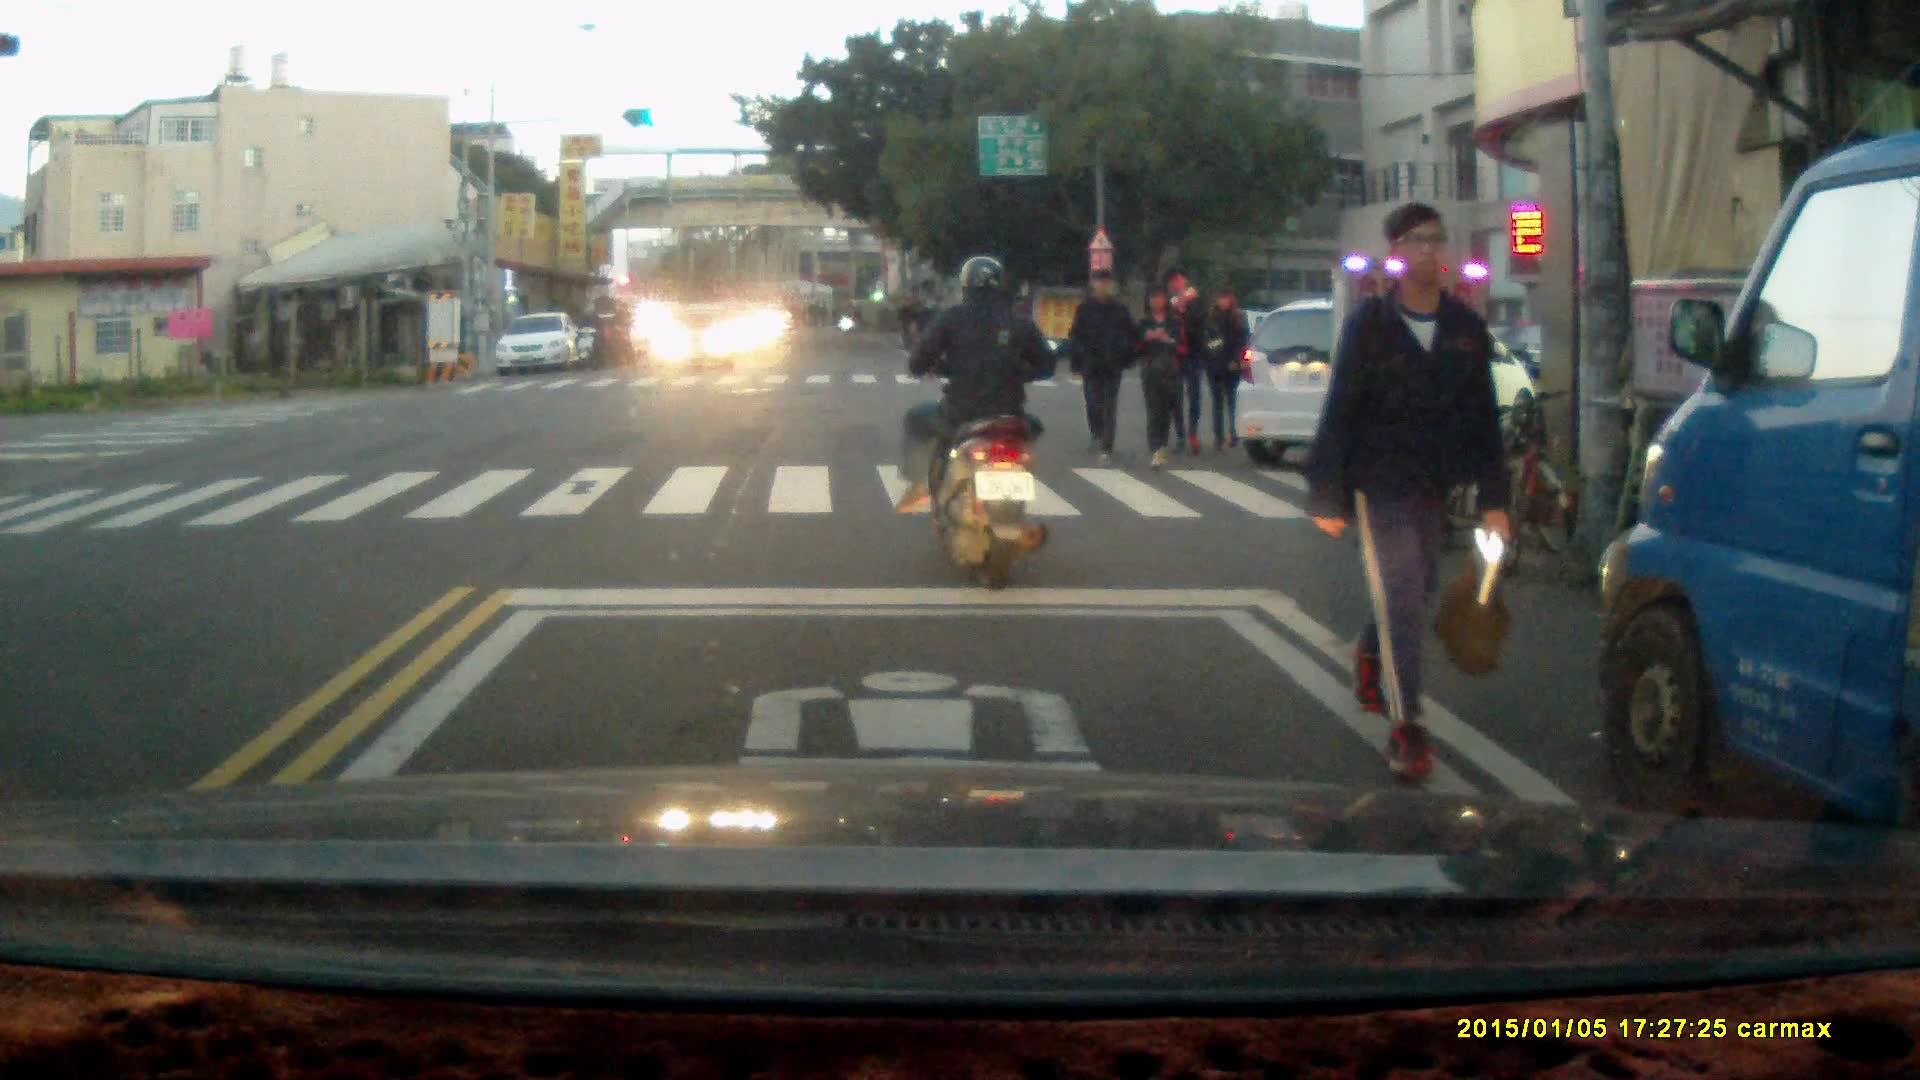pedestrian: (1305, 199, 1517, 771), (1063, 263, 1133, 465), (1132, 280, 1188, 470), (1199, 283, 1248, 452), (1164, 268, 1207, 461)
rider: (896, 254, 1054, 593), (602, 295, 636, 370), (573, 299, 606, 373)
vehicle: (1598, 125, 1920, 899), (1240, 303, 1548, 466), (648, 292, 741, 370), (493, 311, 584, 378)
